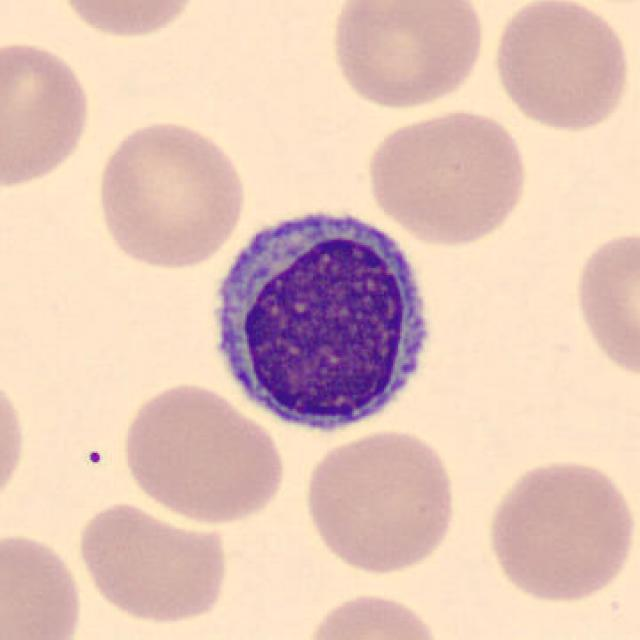Lymphocyte: (196, 194, 444, 446)
RBC: (117, 377, 290, 527), (91, 115, 249, 272), (298, 427, 461, 578), (362, 104, 532, 247), (480, 453, 636, 607), (73, 497, 231, 628), (489, 0, 635, 136), (325, 0, 489, 113), (0, 35, 96, 194), (569, 224, 640, 384), (0, 527, 89, 640), (299, 587, 448, 640), (49, 0, 206, 42), (0, 365, 30, 517)
